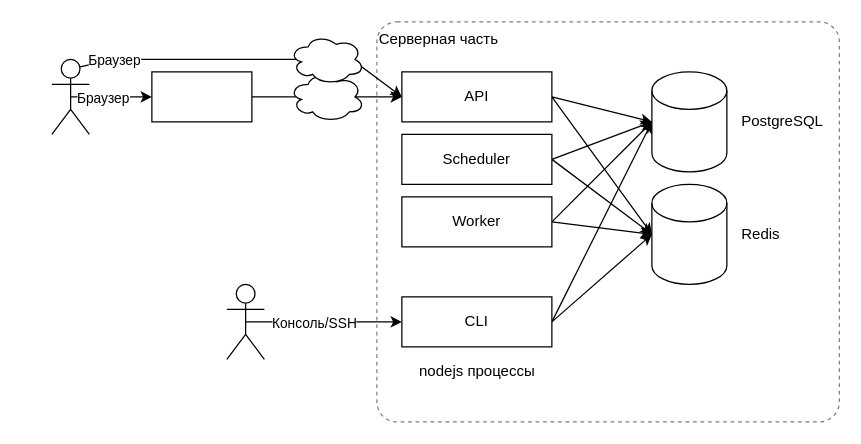
Image size: 861x444. Some labels were removed from this diagram. The shapes that lost their labels are listed below. From the top down, each one's box as (x1, y1, x2, y2) in pixels, then its label:
(51, 58, 89, 134): Пользователь
(151, 71, 252, 122): Фронтенд
(226, 283, 264, 359): Администратор
